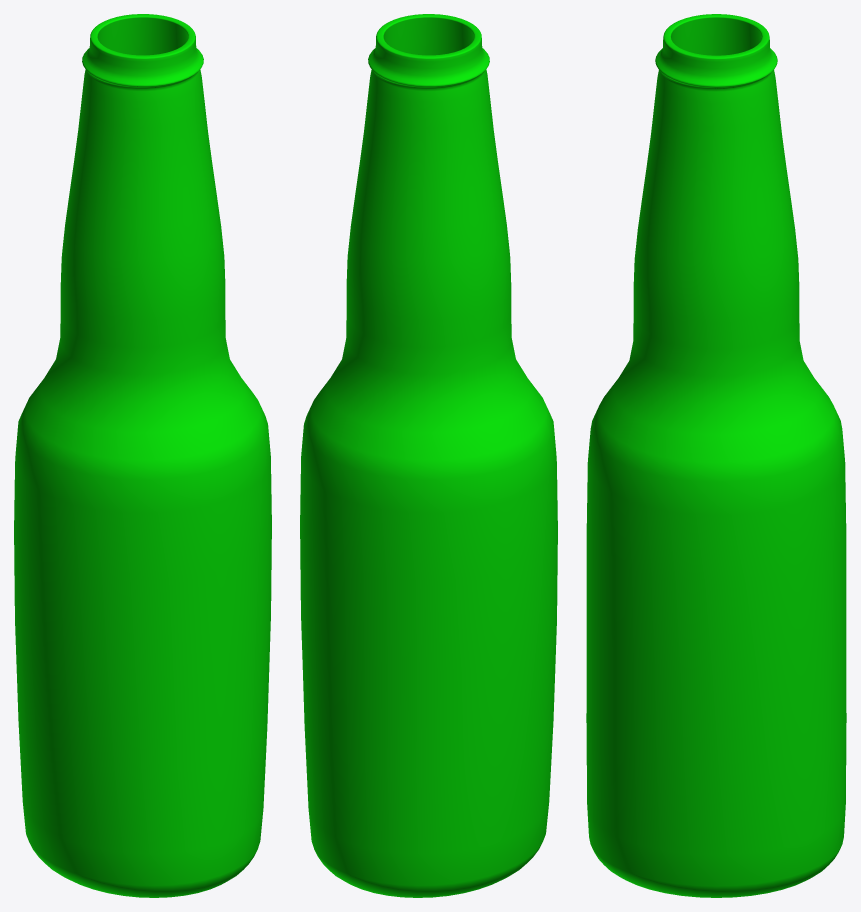
Rendered from Beer_msh.fbx.
The picture shows the model from 3 angles, left to right: view 1: azimuth 30°, elevation 25°; view 2: azimuth 150°, elevation 25°; view 3: azimuth 270°, elevation 25°; orthographic projection.
Visible parts, largest first — view 1: Beer_msh; view 2: Beer_msh; view 3: Beer_msh.
Boxes of the visible parts, box(x1,y1,x2,y2) form: Beer_msh: box(14, 14, 271, 897); Beer_msh: box(300, 14, 557, 897); Beer_msh: box(586, 14, 846, 897).
Bounding box in the file's own units: 4.51 × 15.83 × 4.51.
